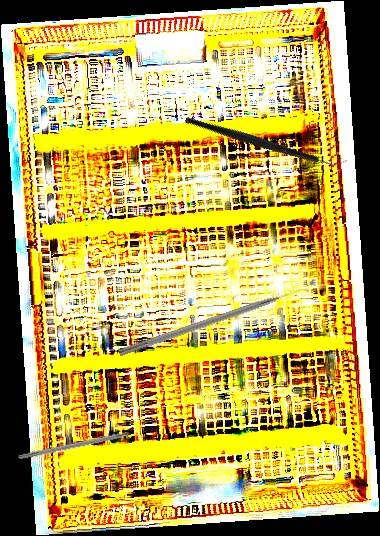Chopper: (183, 66, 350, 216)
Hook Surgical: (117, 283, 310, 359), (17, 427, 147, 462)
